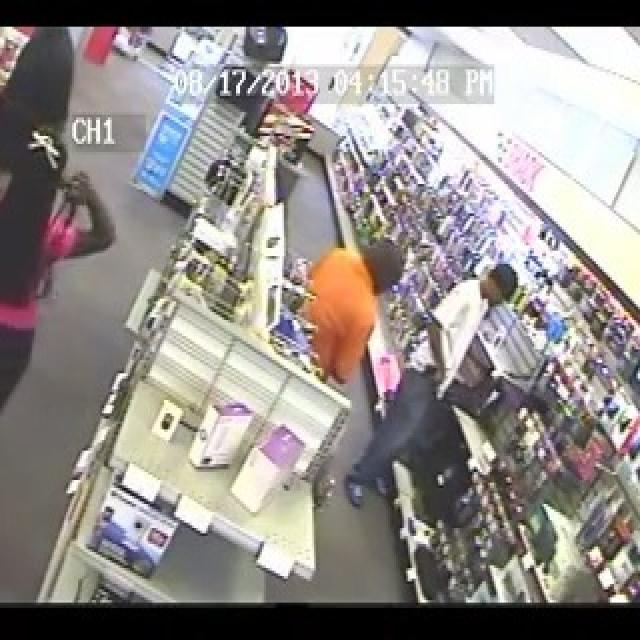normal: (340, 247, 520, 515), (312, 217, 410, 402)
